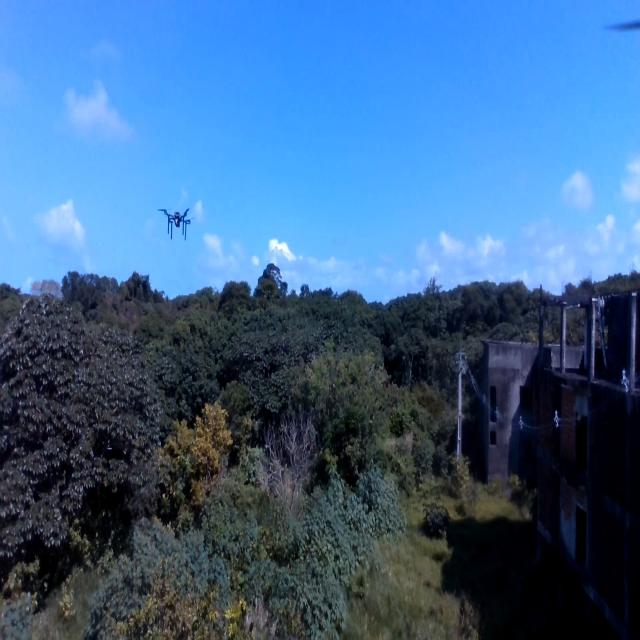-uav-: (158, 191, 200, 246)
